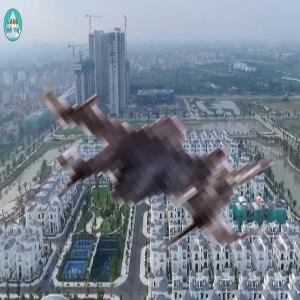drone: (19, 10, 296, 287)
